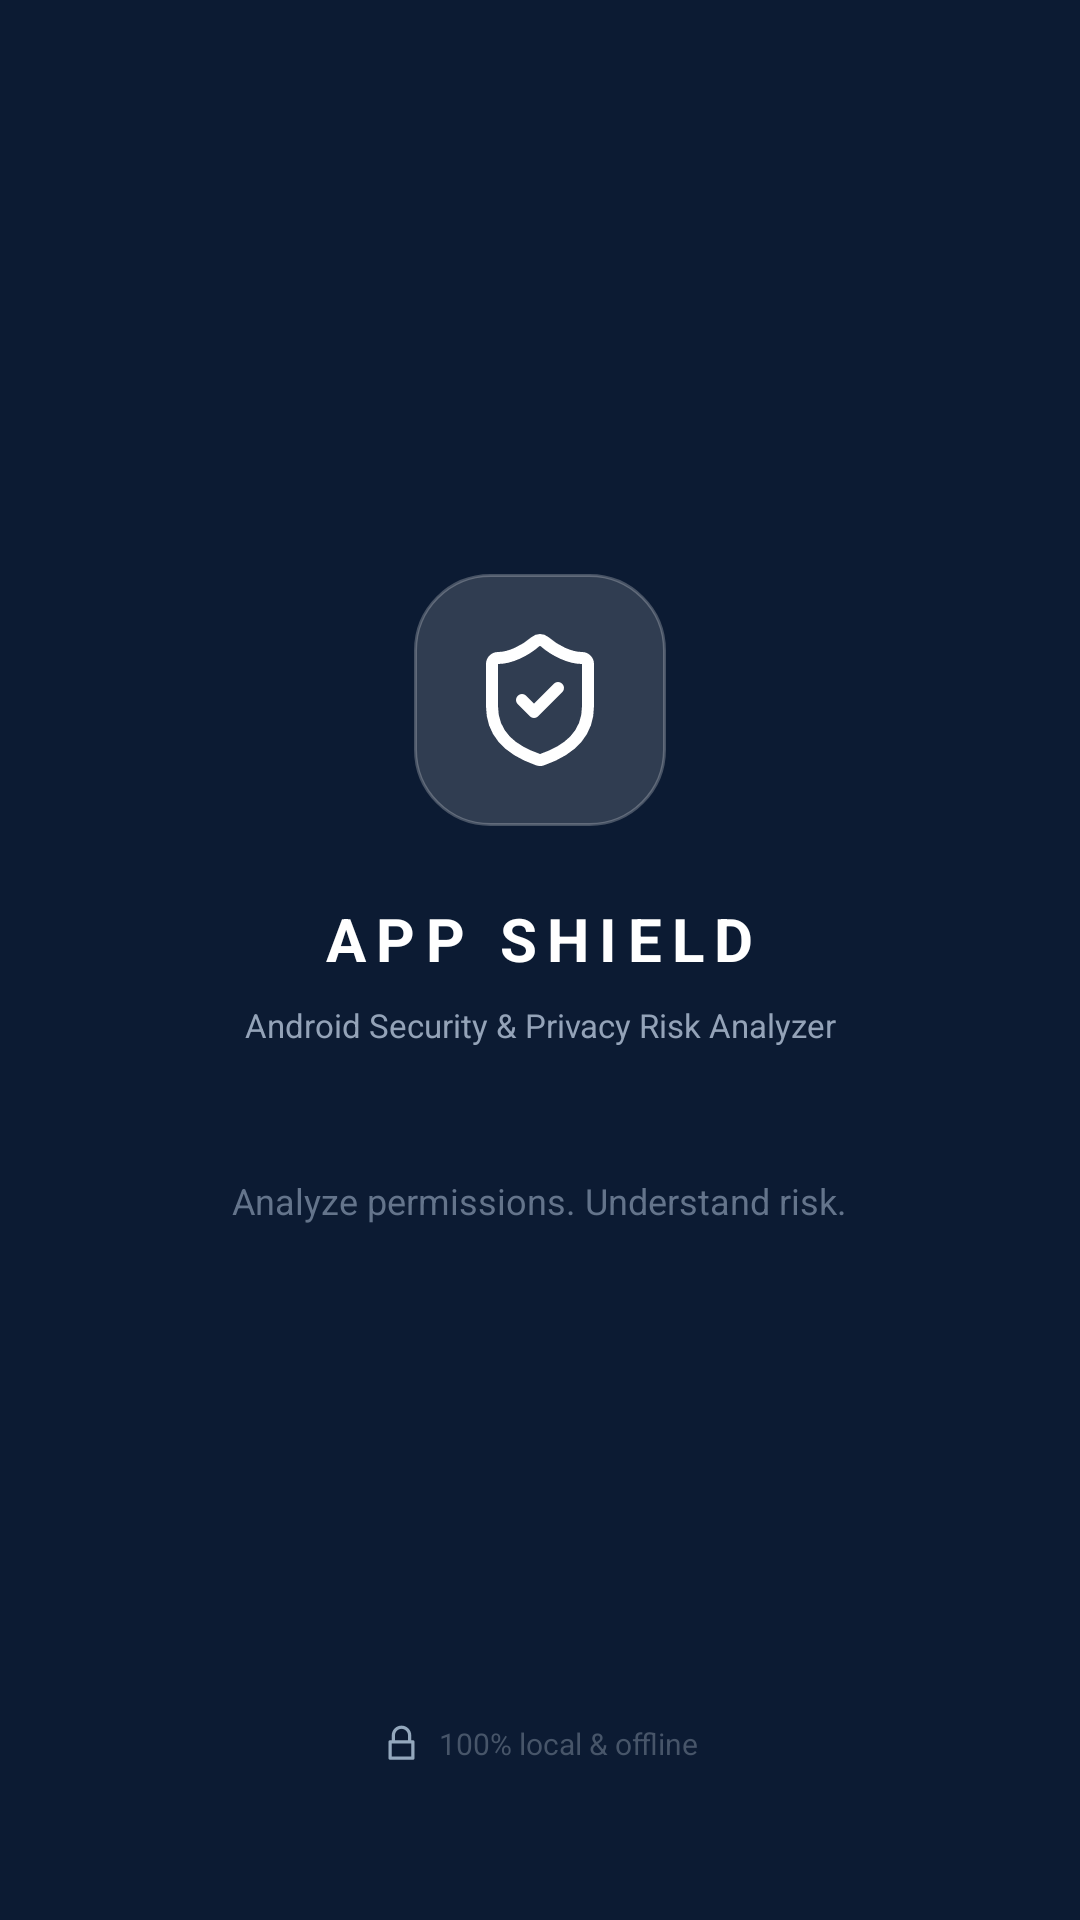

Point at icon controls on the screen. Image size 1080x1920, points as (x,y).
lock: (401,1742)
